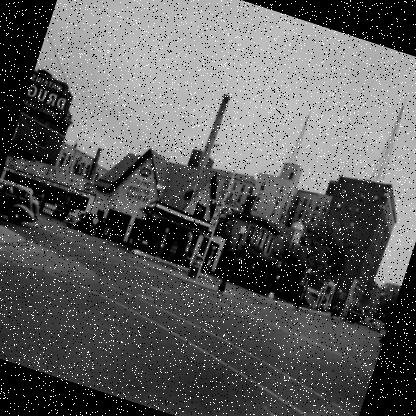Car: (0, 178, 46, 232)
